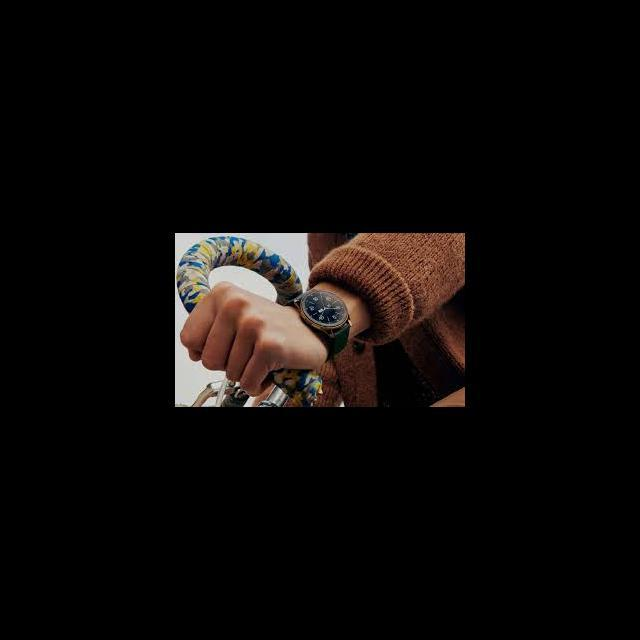watch: (290, 280, 378, 357)
